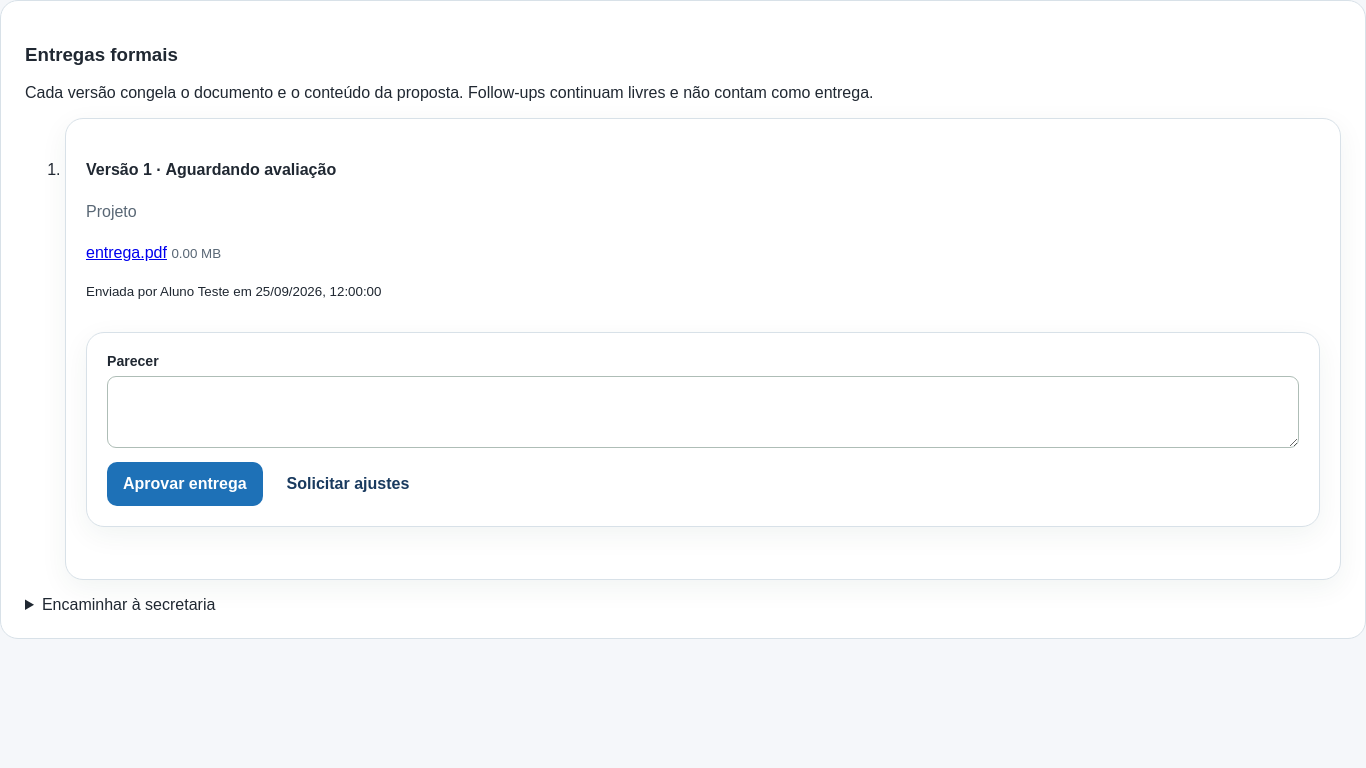
painel de entregas › orientador aprova entrega com parecer
Expected: the heading "Versão 1 · Aguardando avaliação" is shown, [86,161,336,178]
Type "Excelente." into the text box labelled "Parecer" at (703, 412), box [107,376,1299,448]
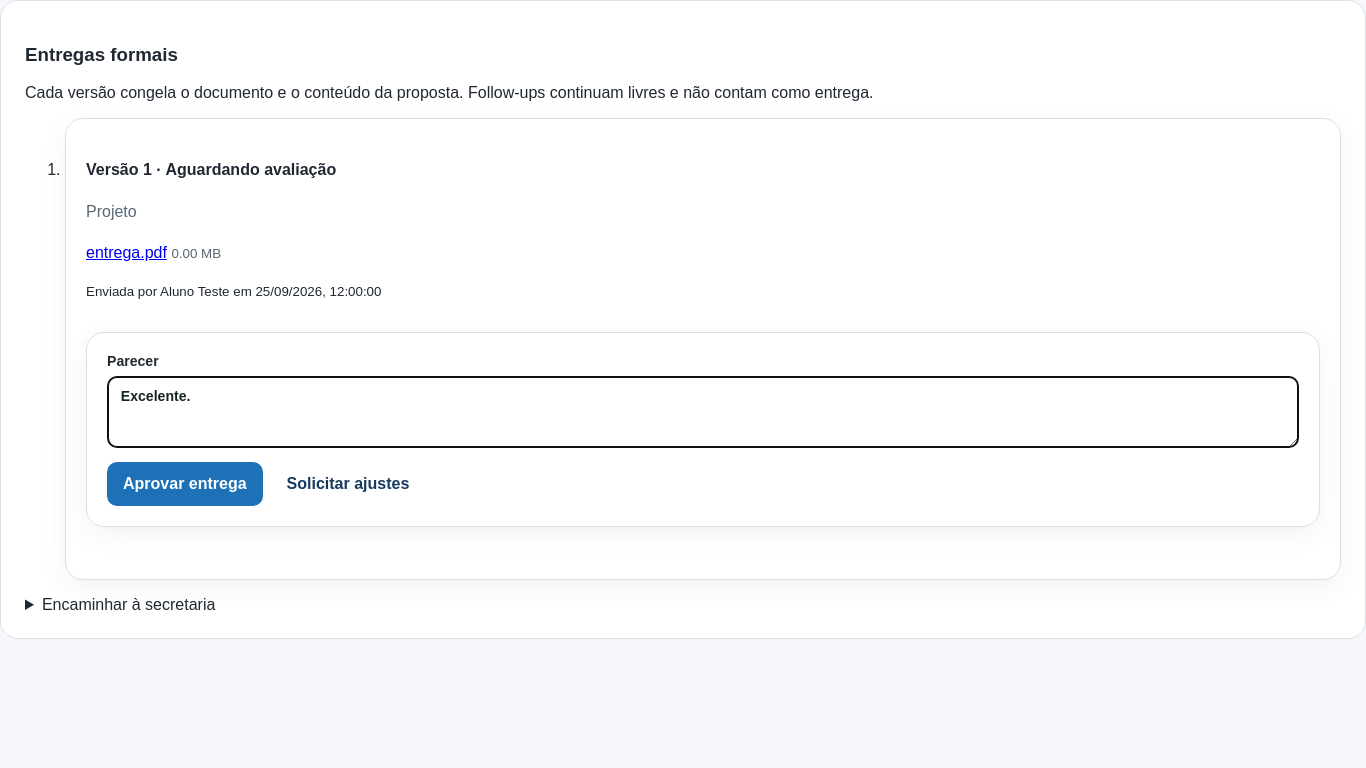
Click the button "Aprovar entrega" at (185, 484), box [107,462,263,506]
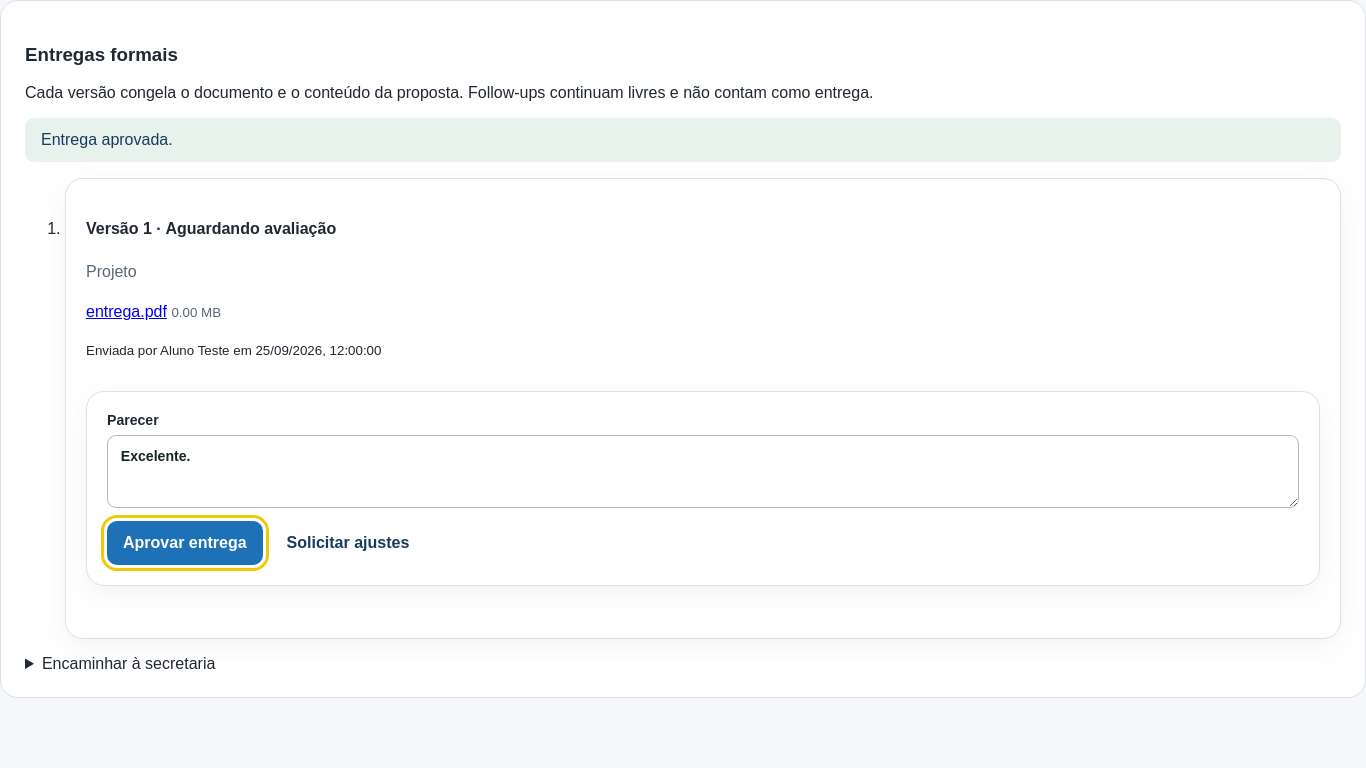
Now the text "Entrega aprovada." is shown, box [25,118,1341,162]
